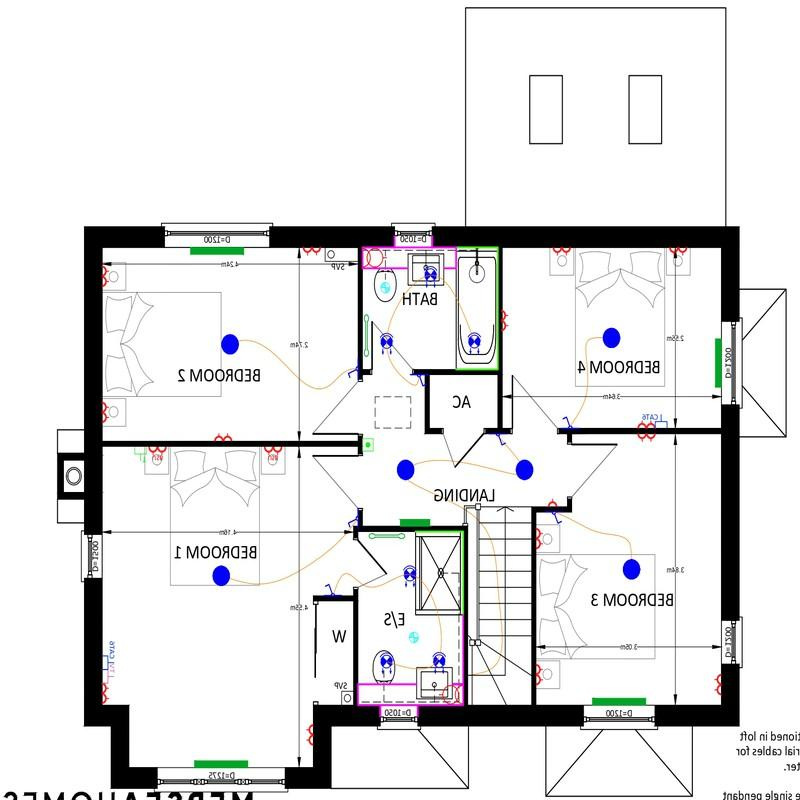Cat 6 Data Socket: (97, 638, 127, 673), (654, 405, 673, 431)
Ceiling Mounted Continuous Extract Fan With Boost Mode Activated By Light Switch: (376, 274, 403, 305), (399, 628, 428, 648)
Co-Ax TV Socket: (96, 668, 134, 683)
Double Socket: (202, 426, 244, 444), (98, 682, 125, 706), (499, 307, 520, 335), (101, 396, 116, 434), (99, 260, 115, 295), (533, 520, 551, 551), (660, 246, 694, 260), (302, 719, 314, 756), (295, 246, 327, 259), (628, 414, 657, 428), (710, 669, 721, 703), (535, 657, 545, 692), (546, 247, 577, 258), (634, 433, 660, 446)
Full Height Tiling: (459, 240, 503, 372), (415, 525, 470, 621)
Light Switch: (545, 509, 577, 529), (337, 505, 360, 531), (559, 409, 583, 431), (343, 354, 360, 385), (316, 577, 346, 594), (488, 433, 515, 451), (411, 372, 428, 393)
Low Energy Downlighter: (419, 256, 444, 293), (397, 562, 422, 596), (375, 647, 399, 682), (460, 331, 487, 360), (427, 651, 452, 679), (377, 328, 397, 359)
Low Energy Pendant Light: (386, 452, 423, 487), (616, 547, 645, 586), (510, 449, 537, 489), (210, 561, 240, 596), (598, 321, 629, 352), (219, 326, 248, 359)
Programmable Room Thermostat: (363, 433, 381, 463)
Radiator: (701, 329, 722, 395), (185, 752, 254, 771), (588, 689, 651, 708), (183, 245, 254, 261), (393, 513, 438, 529)
Shaver Socket: (362, 245, 394, 269), (435, 683, 466, 706)
Single Socket: (542, 495, 564, 509)
Telephone Socket: (123, 445, 147, 469)
USB Double Socket: (145, 443, 184, 468), (256, 444, 287, 468)
